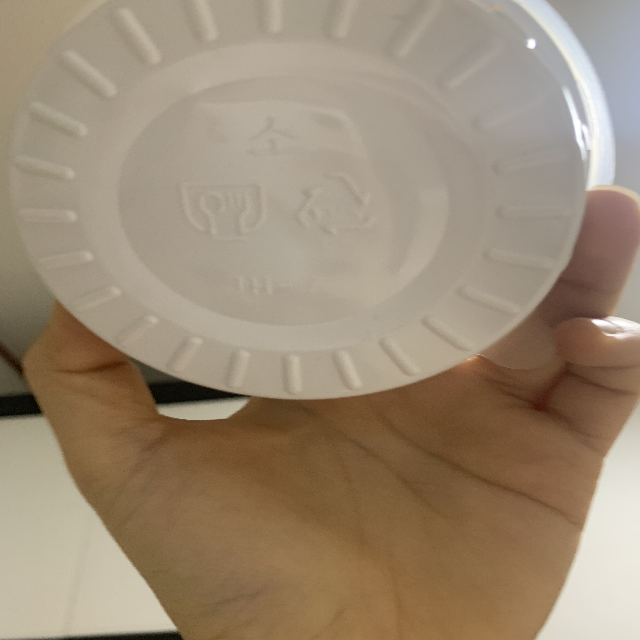ps: (289, 168, 381, 257)
